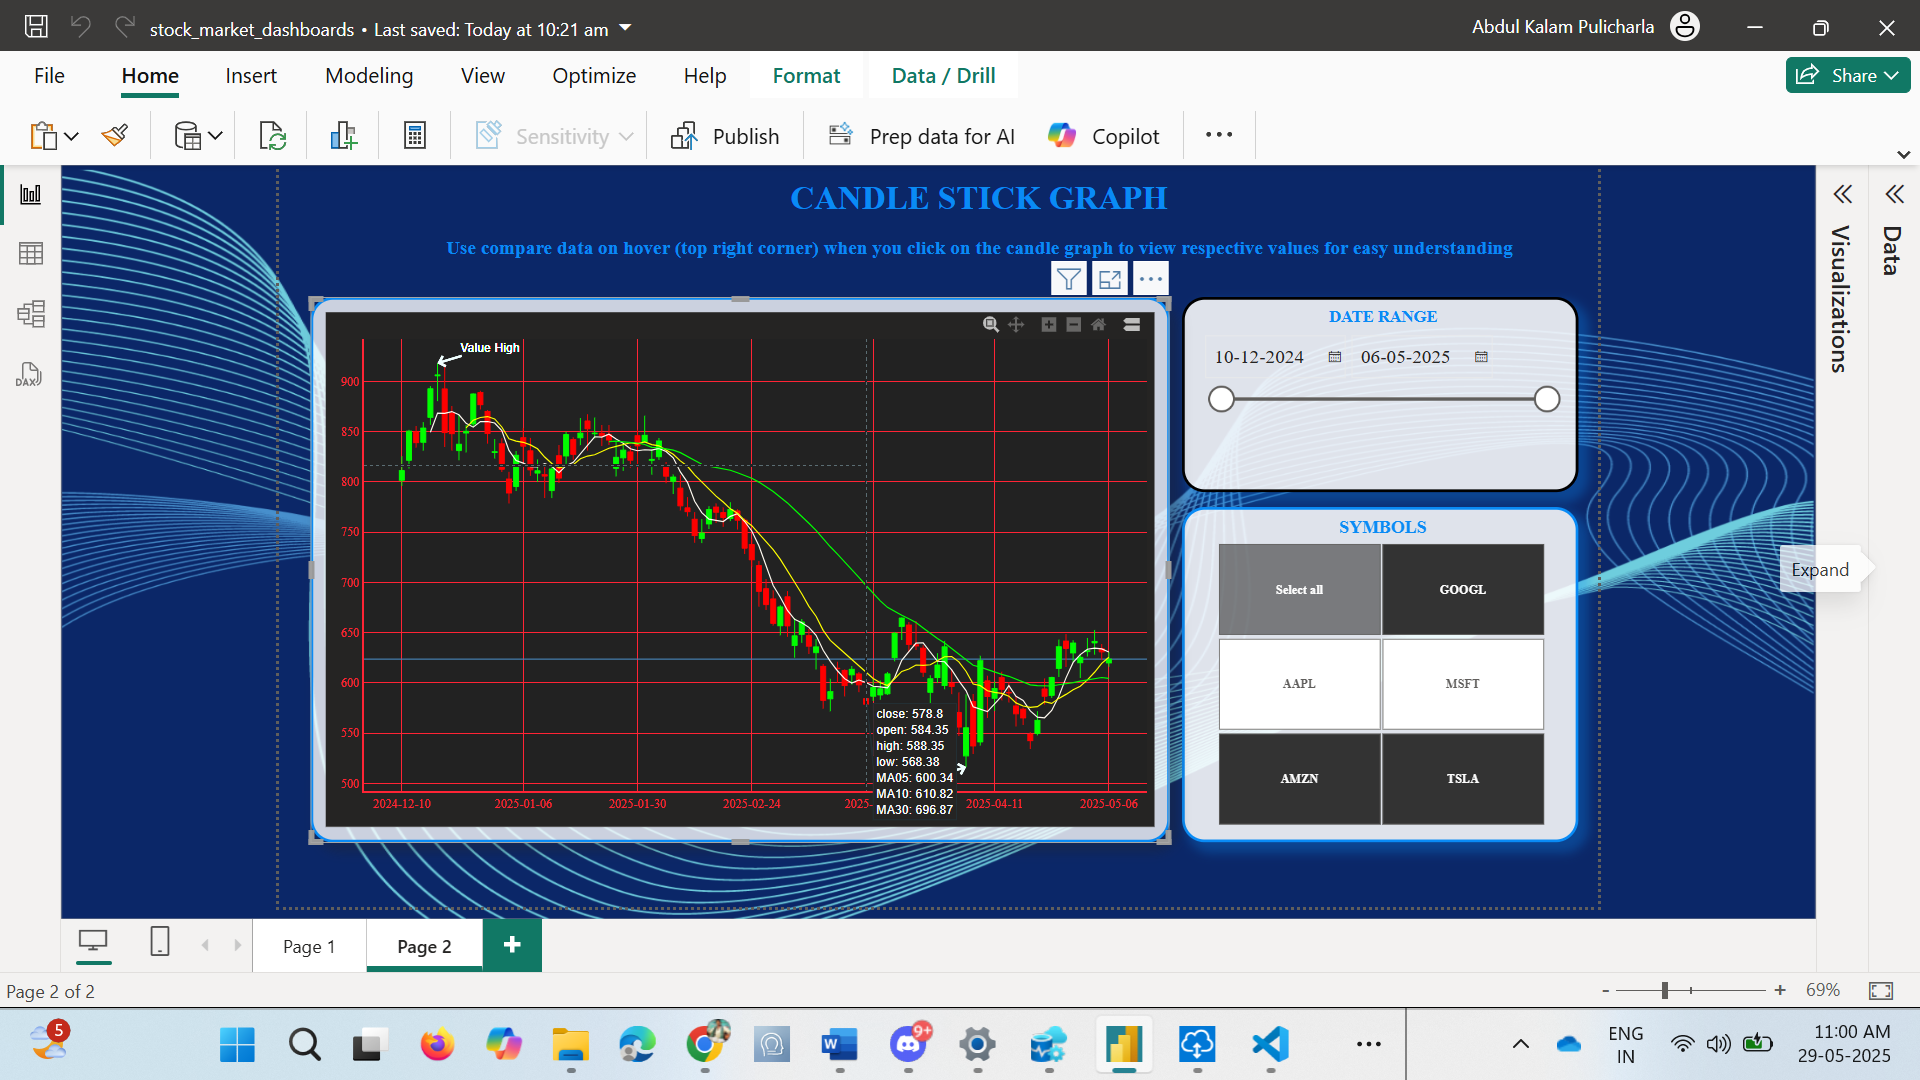

This screenshot's page, from the dashboard's own definition file:
{"tool":"powerbi","page":{"name":"Page 2","canvas":[1280,720],"ordinal":1},"visuals":[{"type":"candlestick95A09604B9D14884B6622C3C64130FA5","fields":{"da":["public stock_history.date"],"cl":["Sum(public stock_history.close)"],"op":["Sum(public stock_history.open)"],"hi":["Sum(public stock_history.high)"],"lo":["Sum(public stock_history.low)"]},"box":[30.6,128.3,833.9,529.2],"z":0},{"type":"slicer","title":"DATE RANGE","fields":{"Values":["public stock_history.date"]},"box":[876.2,128.3,384.9,189.5],"z":1000},{"type":"slicer","title":"SYMBOLS","fields":{"Values":["public stock_history.symbol"]},"box":[876.2,332.4,384.9,325.1],"z":2000},{"type":"textbox","title":"CANDLE STICK GRAPH ","box":[462.1,13.1,433,43.7],"z":3000},{"type":"textbox","box":[157.4,64.1,1070.1,64.1],"z":4000}]}

Visuals, with their boxes on the page's 1280x720 design canvas (x1, y1, x2, y2). These are canvas units, not pixel positions in the 1920x1080 screenshot, which may show the page scaled, cropped or inside an application window:
candlestick95A09604B9D14884B6622C3C64130FA5 - public stock_history.date x Sum(public stock_history.close): bbox=[31, 128, 864, 658]
"DATE RANGE" slicer: bbox=[876, 128, 1261, 318]
"SYMBOLS" slicer: bbox=[876, 332, 1261, 658]
"CANDLE STICK GRAPH " textbox: bbox=[462, 13, 895, 57]
textbox: bbox=[157, 64, 1228, 128]
